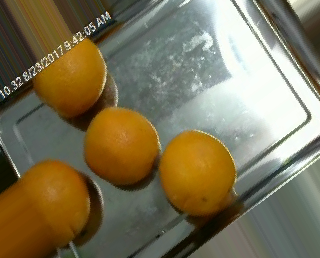Orange: (159, 129, 237, 215), (83, 105, 161, 184)
